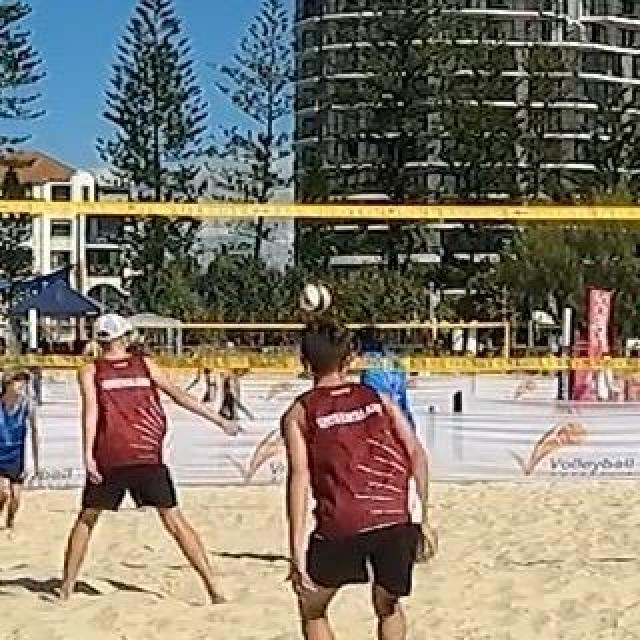volleyball: (299, 287, 331, 313)
